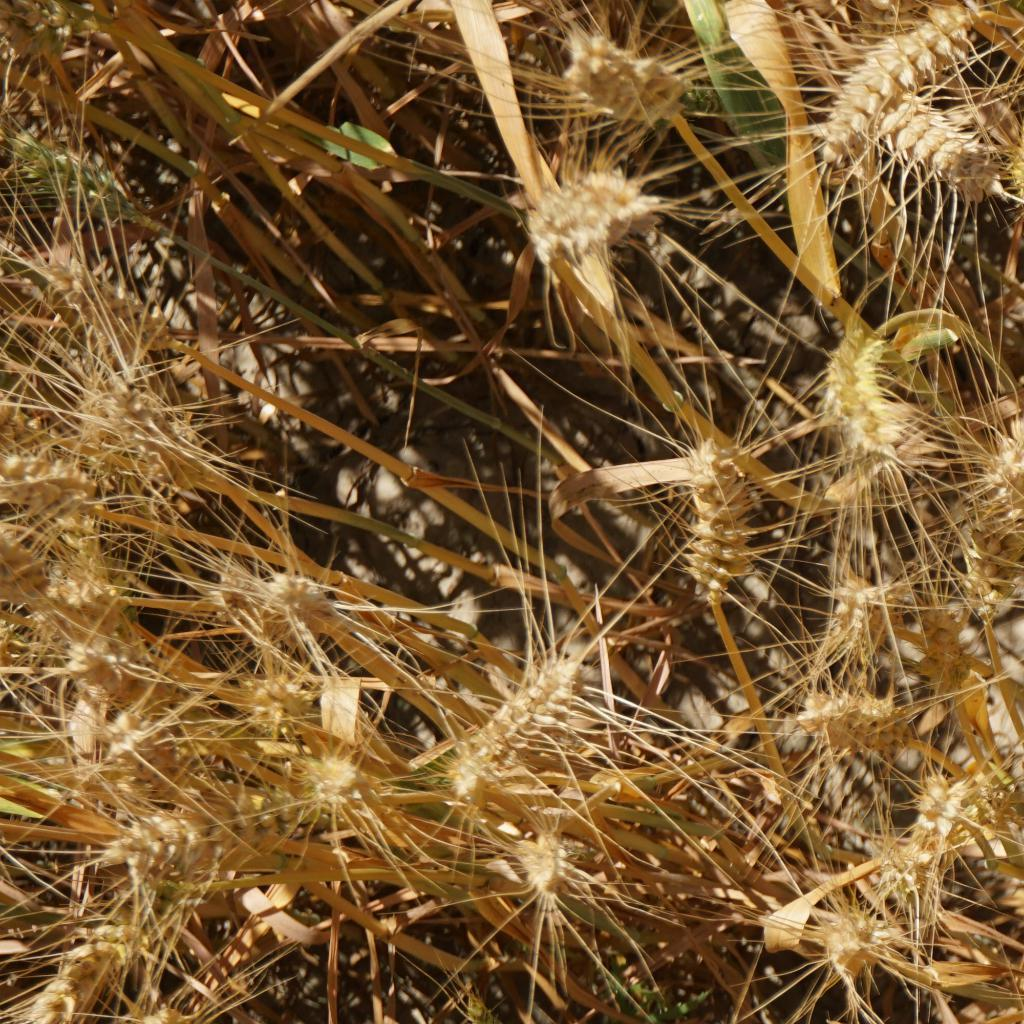0-0: (413, 630, 588, 783), (807, 6, 965, 147), (0, 116, 152, 250), (805, 313, 911, 449), (677, 439, 756, 618), (104, 380, 239, 484), (519, 163, 647, 269), (886, 100, 1006, 212), (104, 789, 246, 868), (903, 756, 1010, 860), (224, 541, 348, 630), (55, 258, 155, 366), (819, 572, 925, 671), (0, 449, 114, 541), (569, 25, 681, 118), (37, 905, 123, 1024), (795, 687, 927, 761), (813, 902, 903, 1006), (484, 813, 584, 898), (263, 722, 366, 799), (947, 514, 1017, 626), (21, 541, 130, 612), (60, 637, 145, 714), (216, 651, 305, 718), (976, 419, 1024, 521), (134, 980, 198, 1024)
